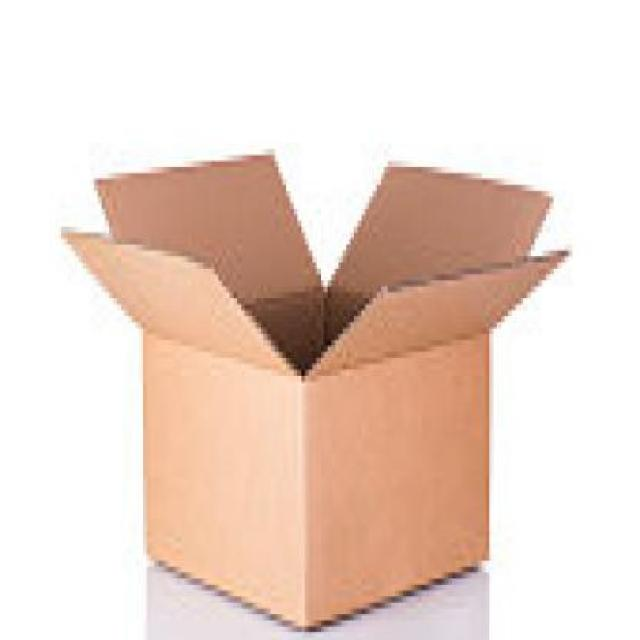box: (31, 117, 583, 626)
